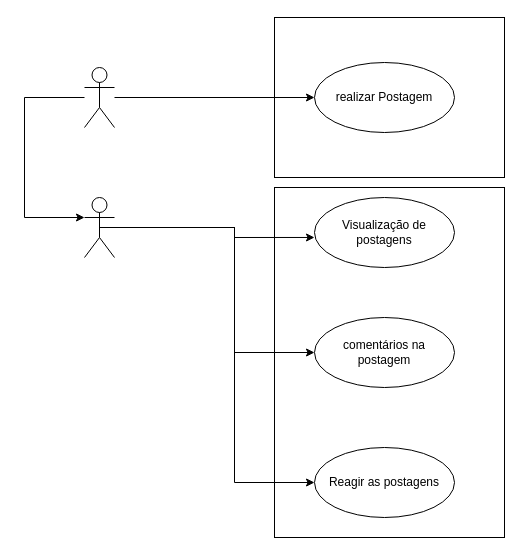
Image size: 522x555. Some labels were removed from this diagram. Each missing label, with the centre of its shape:
Profissionais: the point at 99,97
Todos os usuários: the point at 99,227
